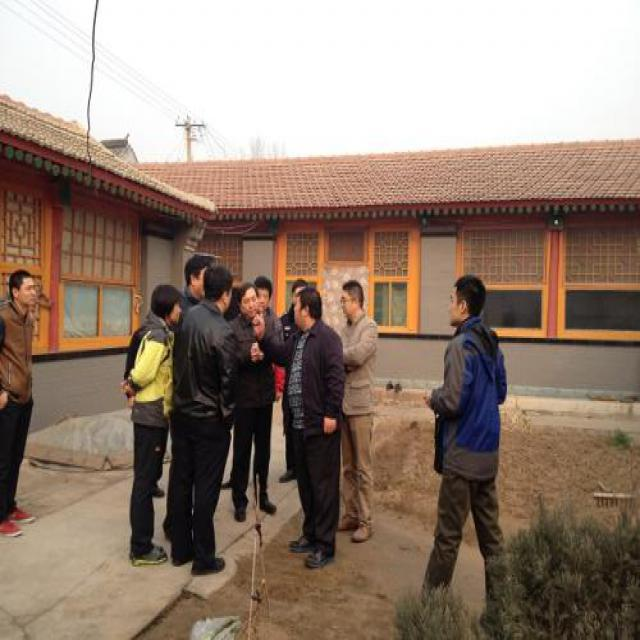head: (449, 267, 489, 327), (290, 281, 325, 334), (5, 266, 39, 315), (149, 281, 183, 330), (202, 262, 233, 315), (338, 276, 366, 324), (179, 249, 207, 295), (237, 281, 257, 318)
person: (420, 266, 523, 636), (119, 277, 186, 573), (286, 287, 350, 578), (186, 265, 240, 588), (337, 276, 387, 545), (234, 276, 281, 534), (4, 258, 43, 559)
